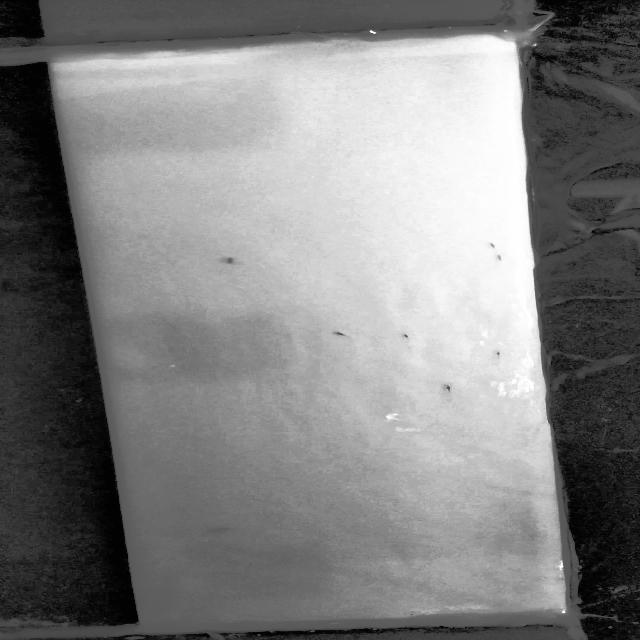shrimp: (206, 252, 244, 269), (391, 328, 425, 342), (430, 379, 459, 393), (326, 330, 358, 341), (490, 252, 509, 264), (492, 349, 508, 363), (483, 239, 499, 249)
